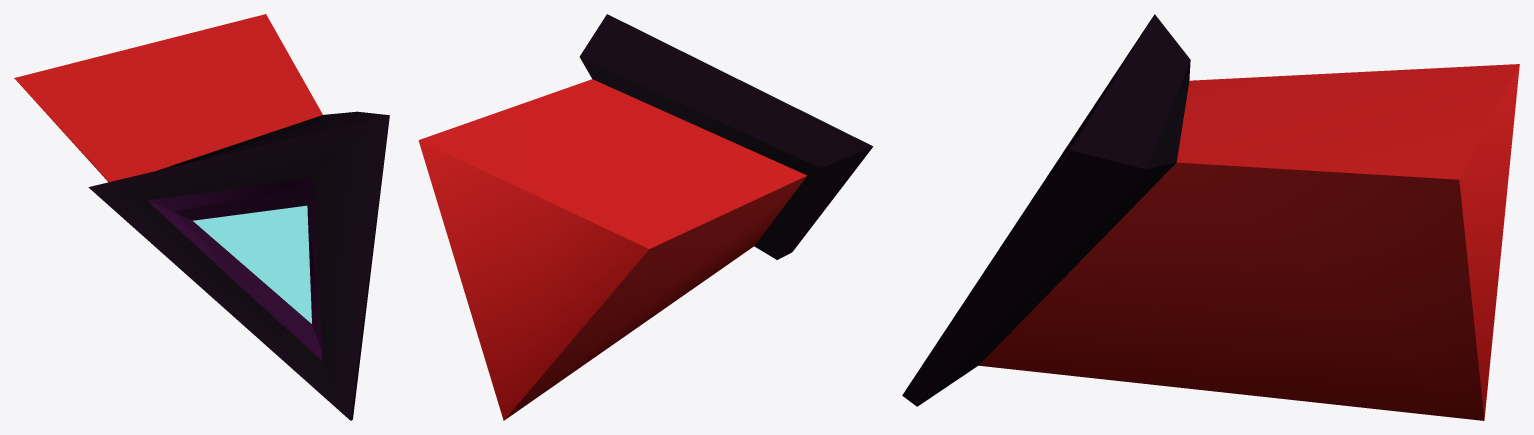
Rendered from c_roof_skylight_ab.fbx.
3 views of the same model, side by side, from view 1: azimuth 30°, elevation 25°; view 2: azimuth 150°, elevation 25°; view 3: azimuth 270°, elevation 25° (orthographic). The views are drawn at different scales.
Visible parts, largest first — view 1: c_roof_skylight_ab; view 2: c_roof_skylight_ab; view 3: c_roof_skylight_ab.
Boxes of the visible parts, x1,y1,x2,y2 form: c_roof_skylight_ab: (14, 14, 389, 420); c_roof_skylight_ab: (418, 14, 873, 420); c_roof_skylight_ab: (902, 14, 1519, 420).
Size of the model in its own units: 2.17 by 1.69 by 2.98.
